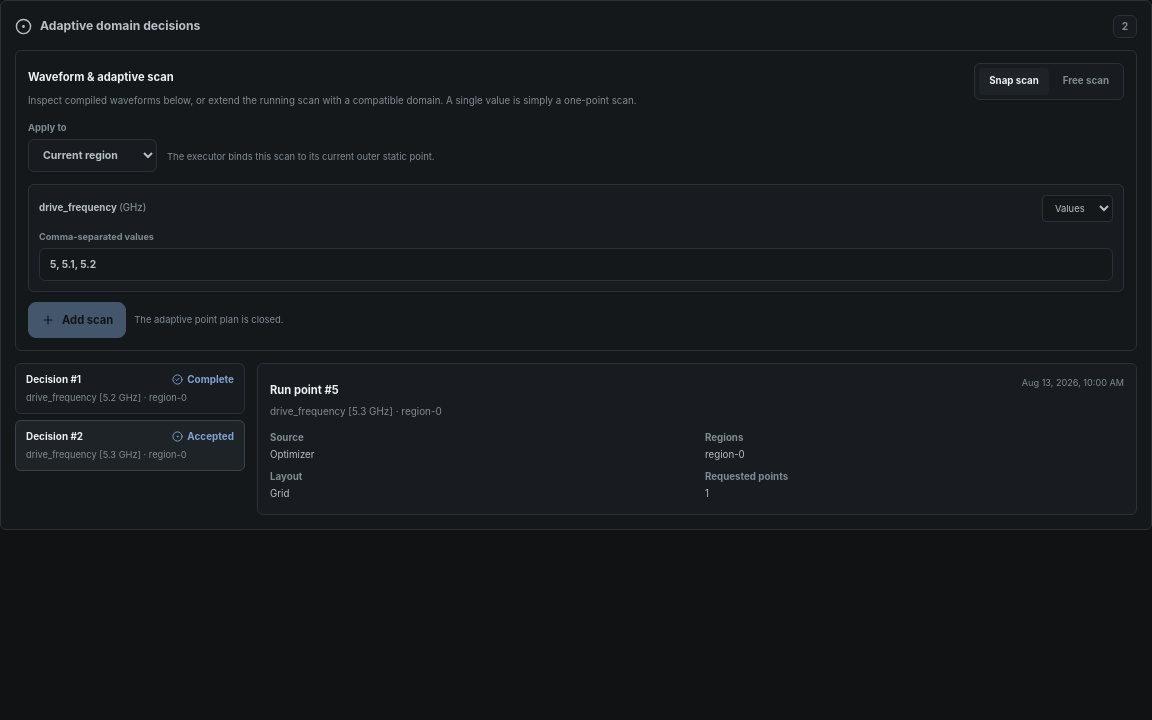
Test: RunDomainDecisionCard › shows durable accepted decisions and their execution progress
Expected: the text "Complete" is shown, [172,372,234,387]
Expected: the text "Accepted" is shown, [172,429,234,444]
Click the button "Decision #1 Complete drive_frequency [5.2 GHz] · region-0".
click(130, 389)  # box [15,363,245,414]
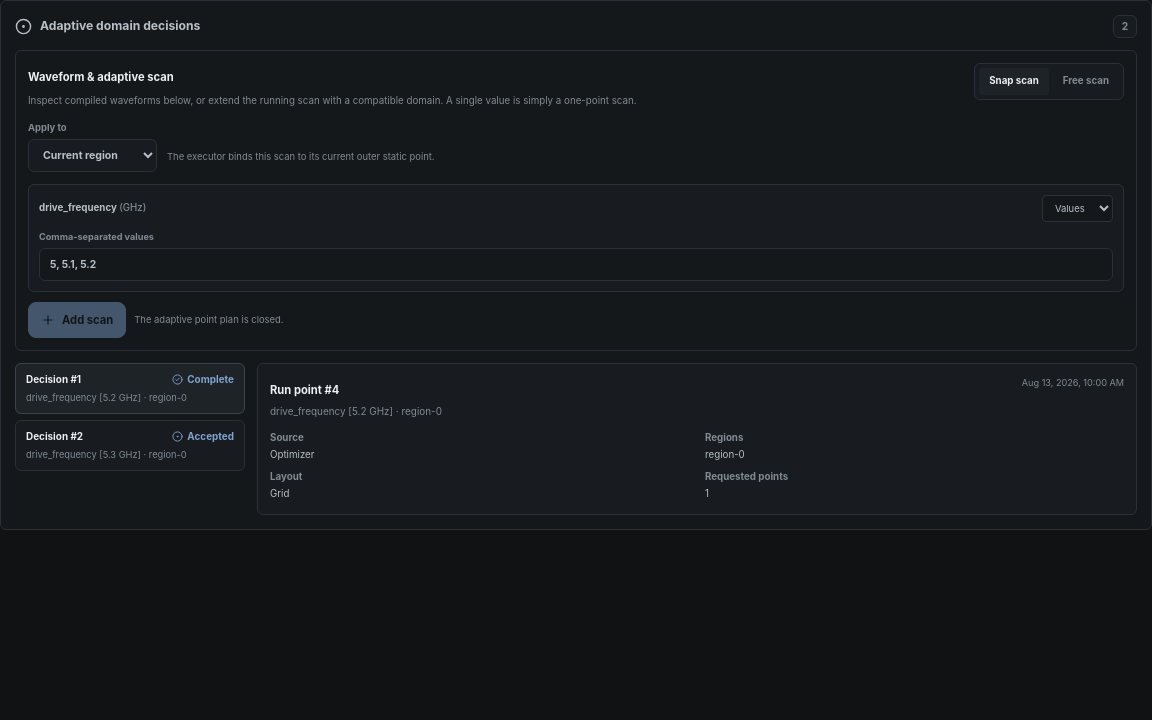
Expected: the text "Run point #4" is shown, [270,383,339,397]
